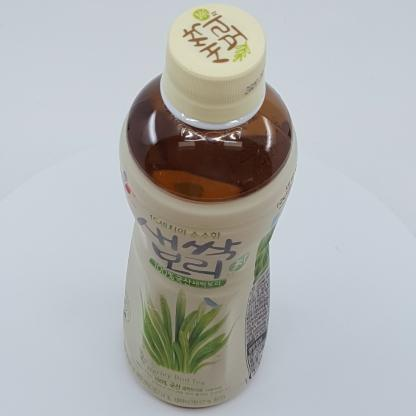CJ-----410ML: (119, 3, 299, 408)
